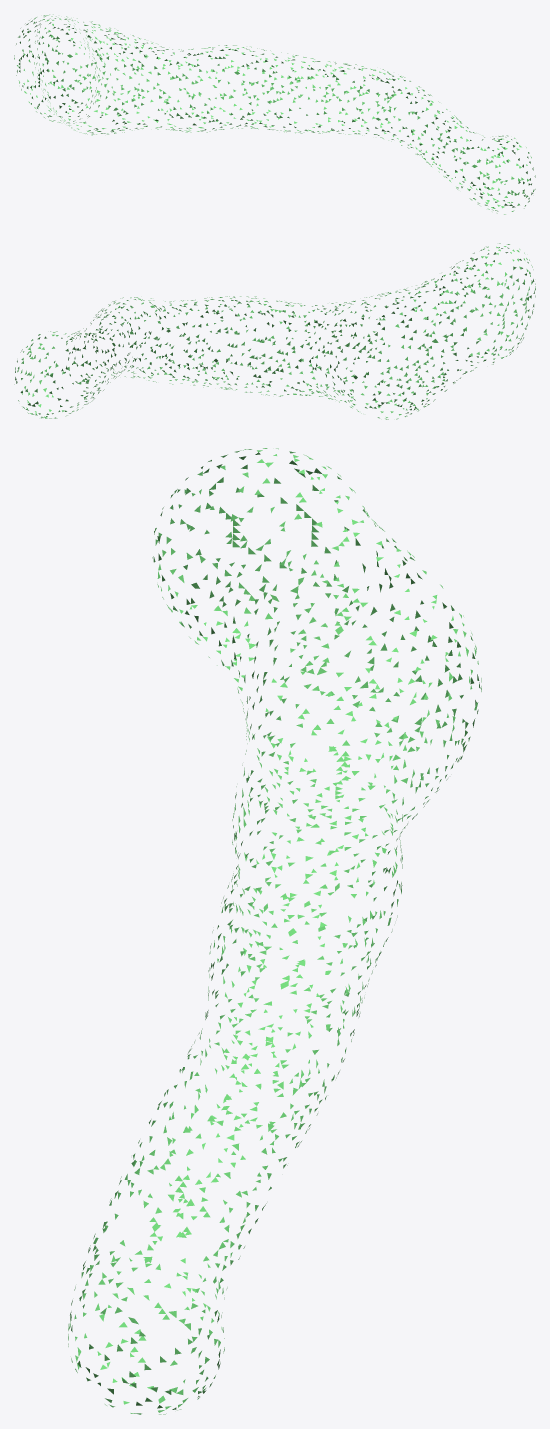
Rendered from morph_018.glb.
The picture shows the model from 3 angles, top to bottom: view 1: azimuth 30°, elevation 25°; view 2: azimuth 150°, elevation 25°; view 3: azimuth 270°, elevation 25°; orthographic projection. The views are drawn at different scales.
Bounding box in the file's own units: 101 × 56.59 × 38.91.
